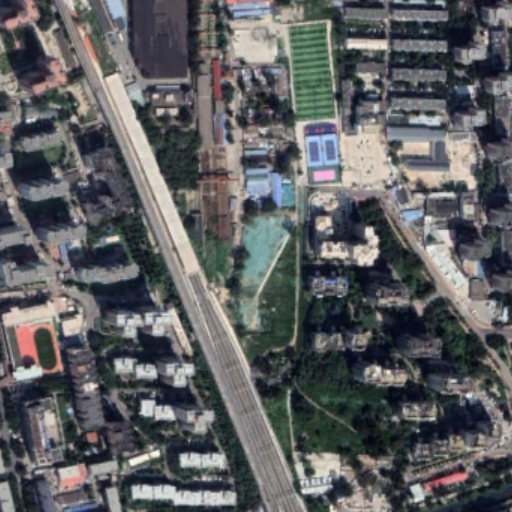cw: (229, 211, 291, 337)
